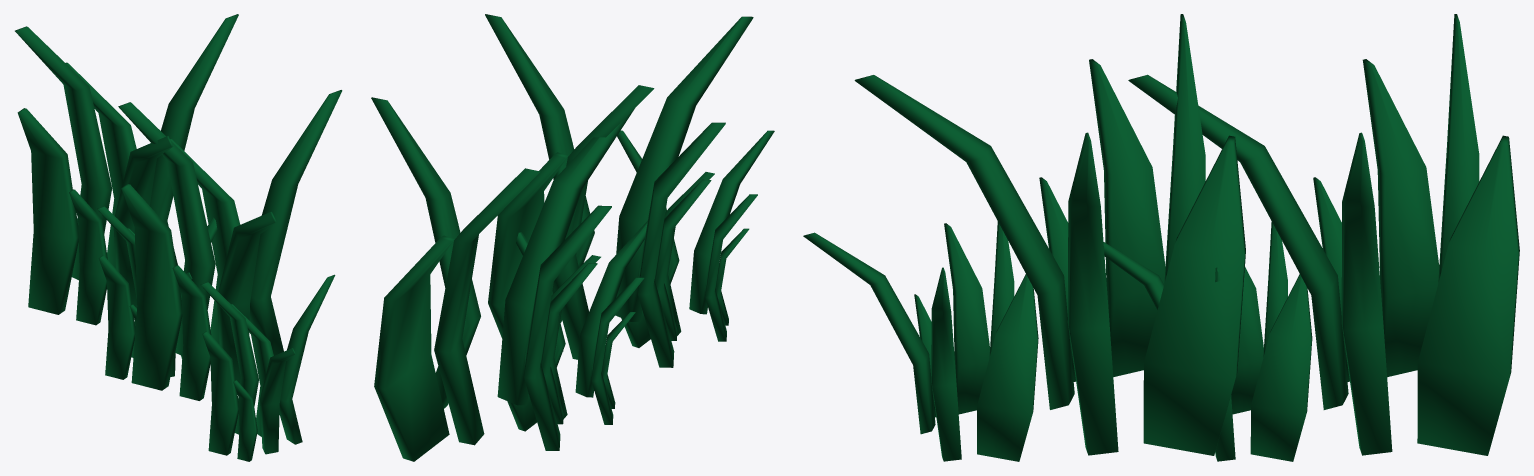
File: Grass_04.fbx
3 views of the same model, side by side, from view 1: azimuth 30°, elevation 25°; view 2: azimuth 150°, elevation 25°; view 3: azimuth 270°, elevation 25° (orthographic). The views are drawn at different scales.
Visible parts, largest first — view 1: grass_04; view 2: grass_04; view 3: grass_04.
Part boxes in pixels (x1=…): grass_04: x1=15, y1=14, x2=342, y2=461; grass_04: x1=371, y1=14, x2=774, y2=461; grass_04: x1=803, y1=14, x2=1519, y2=461.
Bounding box in the file's own units: 82.63 × 107 × 176.
1 material, 1 textured.
